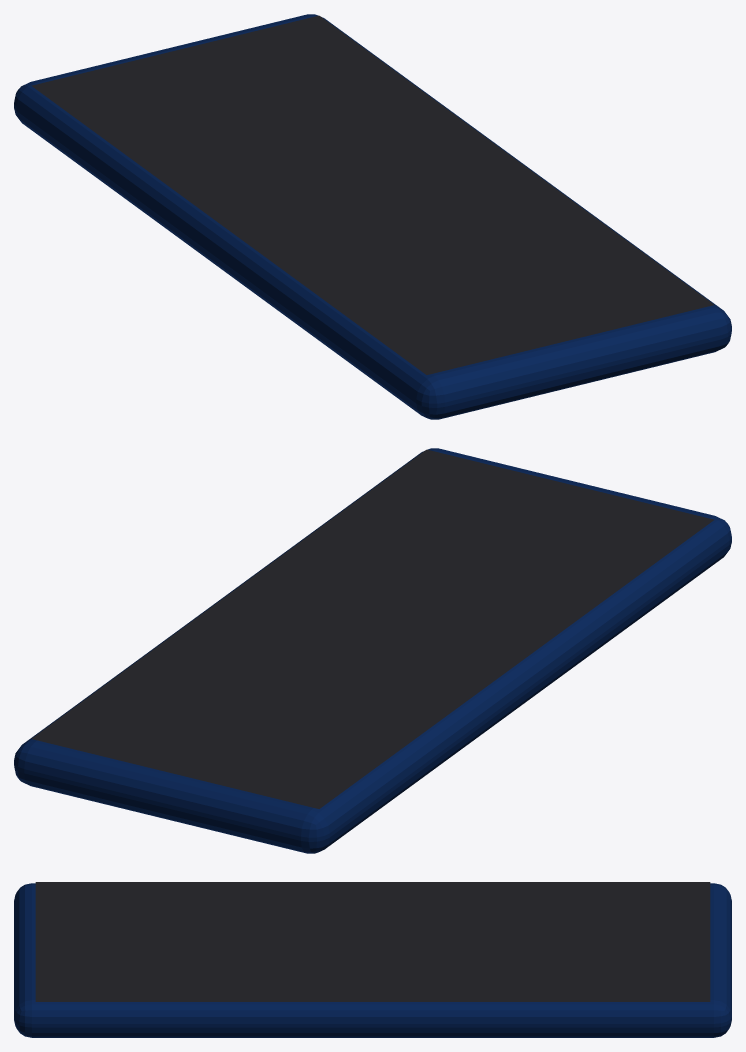
The model's file is tecno-camon-model-411-flagship-2025.glb.
3 views of the same model, one above another, from view 1: azimuth 30°, elevation 25°; view 2: azimuth 150°, elevation 25°; view 3: azimuth 270°, elevation 25° (orthographic). The views are drawn at different scales.
Parts seen in each view (by area): view 1: Phone_Screen, Phone_Body; view 2: Phone_Screen, Phone_Body; view 3: Phone_Screen, Phone_Body.
Part boxes in pixels (x1,y1,x2,y2): Phone_Screen: [31, 15, 714, 374]; Phone_Body: [14, 14, 731, 419]; Phone_Screen: [31, 449, 714, 808]; Phone_Body: [14, 448, 731, 853]; Phone_Screen: [35, 882, 710, 1001]; Phone_Body: [14, 883, 731, 1037].
Bounding box in the file's own units: 0.0712 × 0.0093 × 0.1657.
